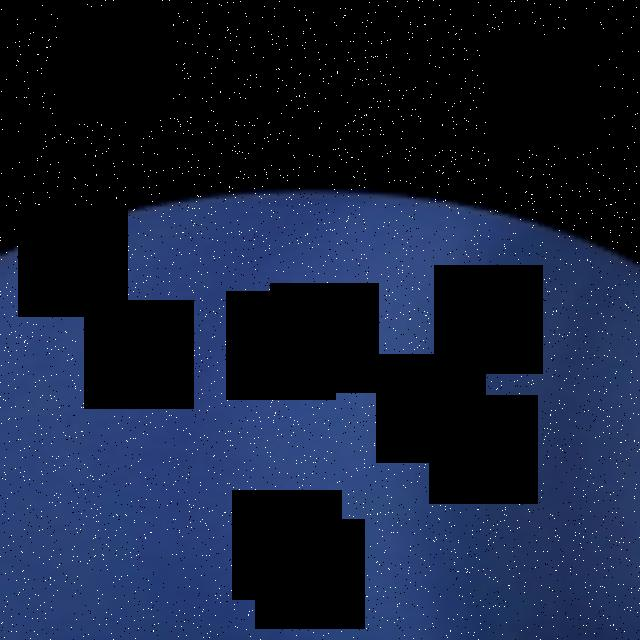Neptune: (0, 189, 640, 640)
